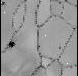good_void: (7, 39, 17, 49), (1, 0, 6, 5), (58, 44, 62, 50)
